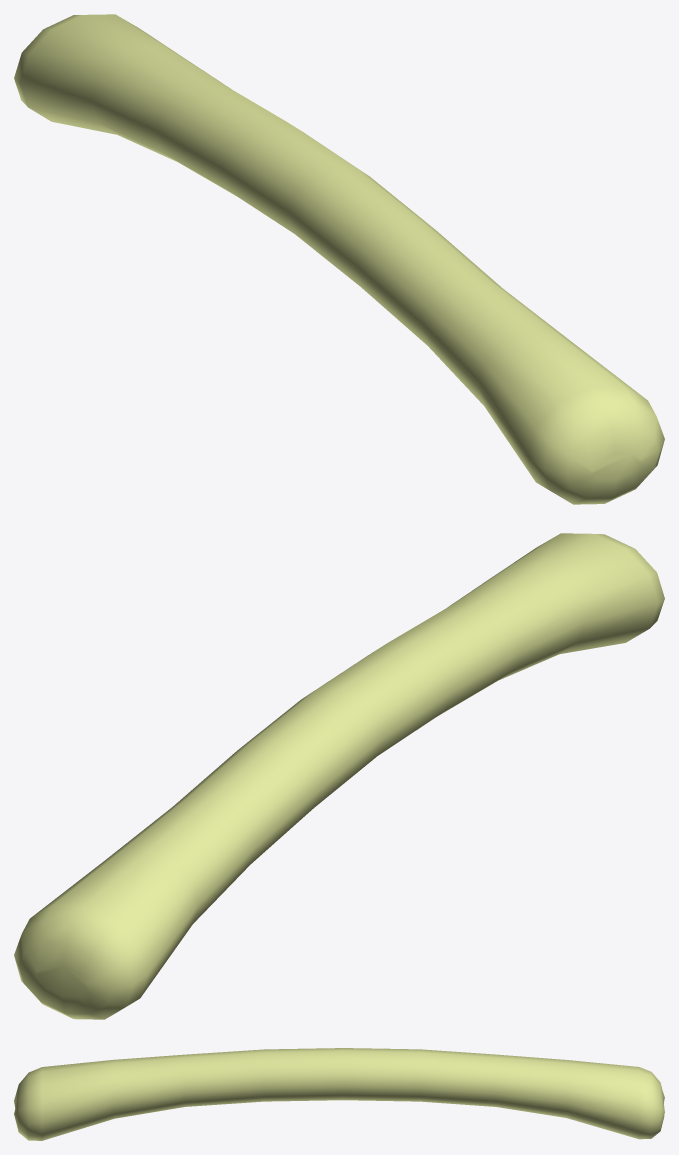
The model's file is Bone_Bogdan.fbx.
3 views of the same model, one above another, from view 1: azimuth 30°, elevation 25°; view 2: azimuth 150°, elevation 25°; view 3: azimuth 270°, elevation 25° (orthographic). The views are drawn at different scales.
Visible parts, largest first — view 1: Bone; view 2: Bone; view 3: Bone.
Boxes of the visible parts, <box> form: Bone: <box>14,14,664,504</box>; Bone: <box>14,533,664,1019</box>; Bone: <box>14,1048,664,1140</box>.
Size of the model in its own units: 214 by 224 by 1582.
